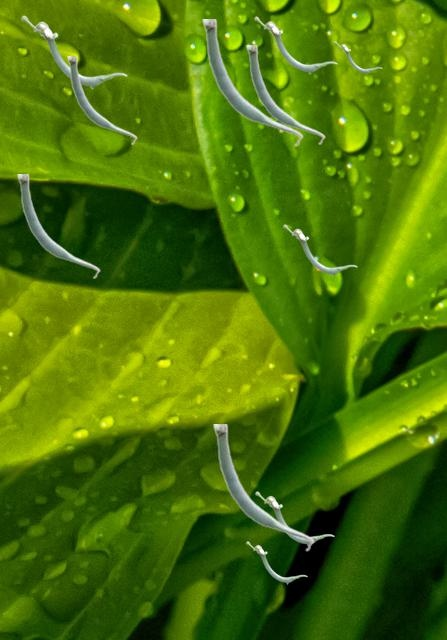french_bean: (213, 424, 313, 551), (202, 19, 302, 146), (17, 174, 99, 278), (246, 45, 324, 144), (21, 15, 126, 88), (67, 56, 136, 144), (254, 16, 336, 73), (255, 491, 333, 544), (283, 224, 356, 275), (246, 541, 306, 583), (334, 41, 381, 73)
